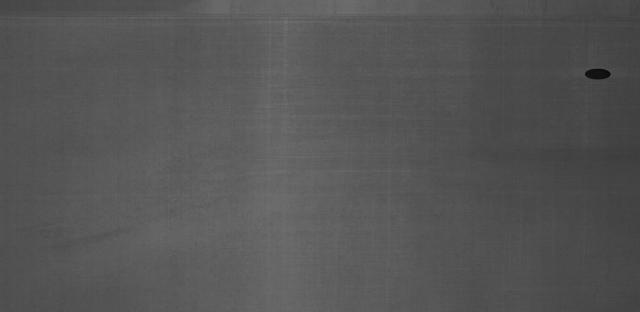punching_hole: (580, 64, 614, 83)
welding_line: (4, 7, 634, 28)
